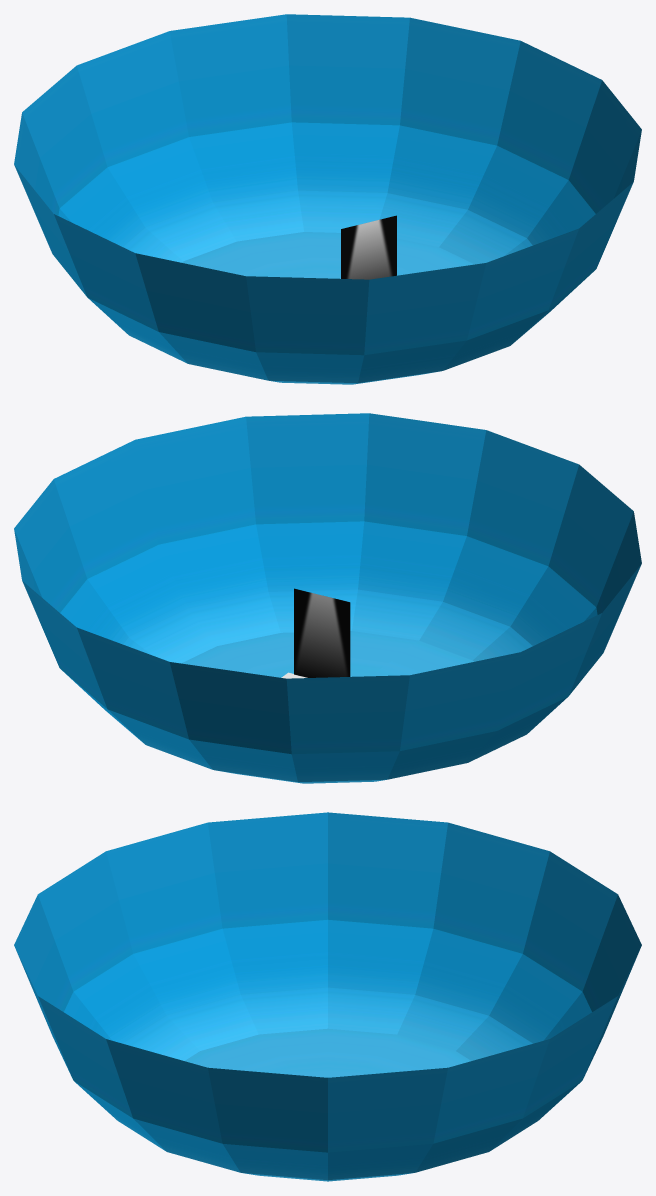
Rendered from BoxOpening.fbx.
3 views of the same model, one above another, from view 1: azimuth 30°, elevation 25°; view 2: azimuth 150°, elevation 25°; view 3: azimuth 270°, elevation 25° (orthographic).
Visible parts, largest first — view 1: scene_floor, Ray; view 2: scene_floor, Ray; view 3: scene_floor.
Part boxes in pixels (box(x1,y1,x2,y2)): scene_floor: box(14, 14, 641, 384); Ray: box(341, 215, 396, 279); scene_floor: box(14, 413, 641, 783); Ray: box(294, 588, 350, 677); scene_floor: box(14, 812, 641, 1181).
Bounding box in the file's own units: 47.9 × 13.47 × 47.9.
4 materials, 4 textured.
